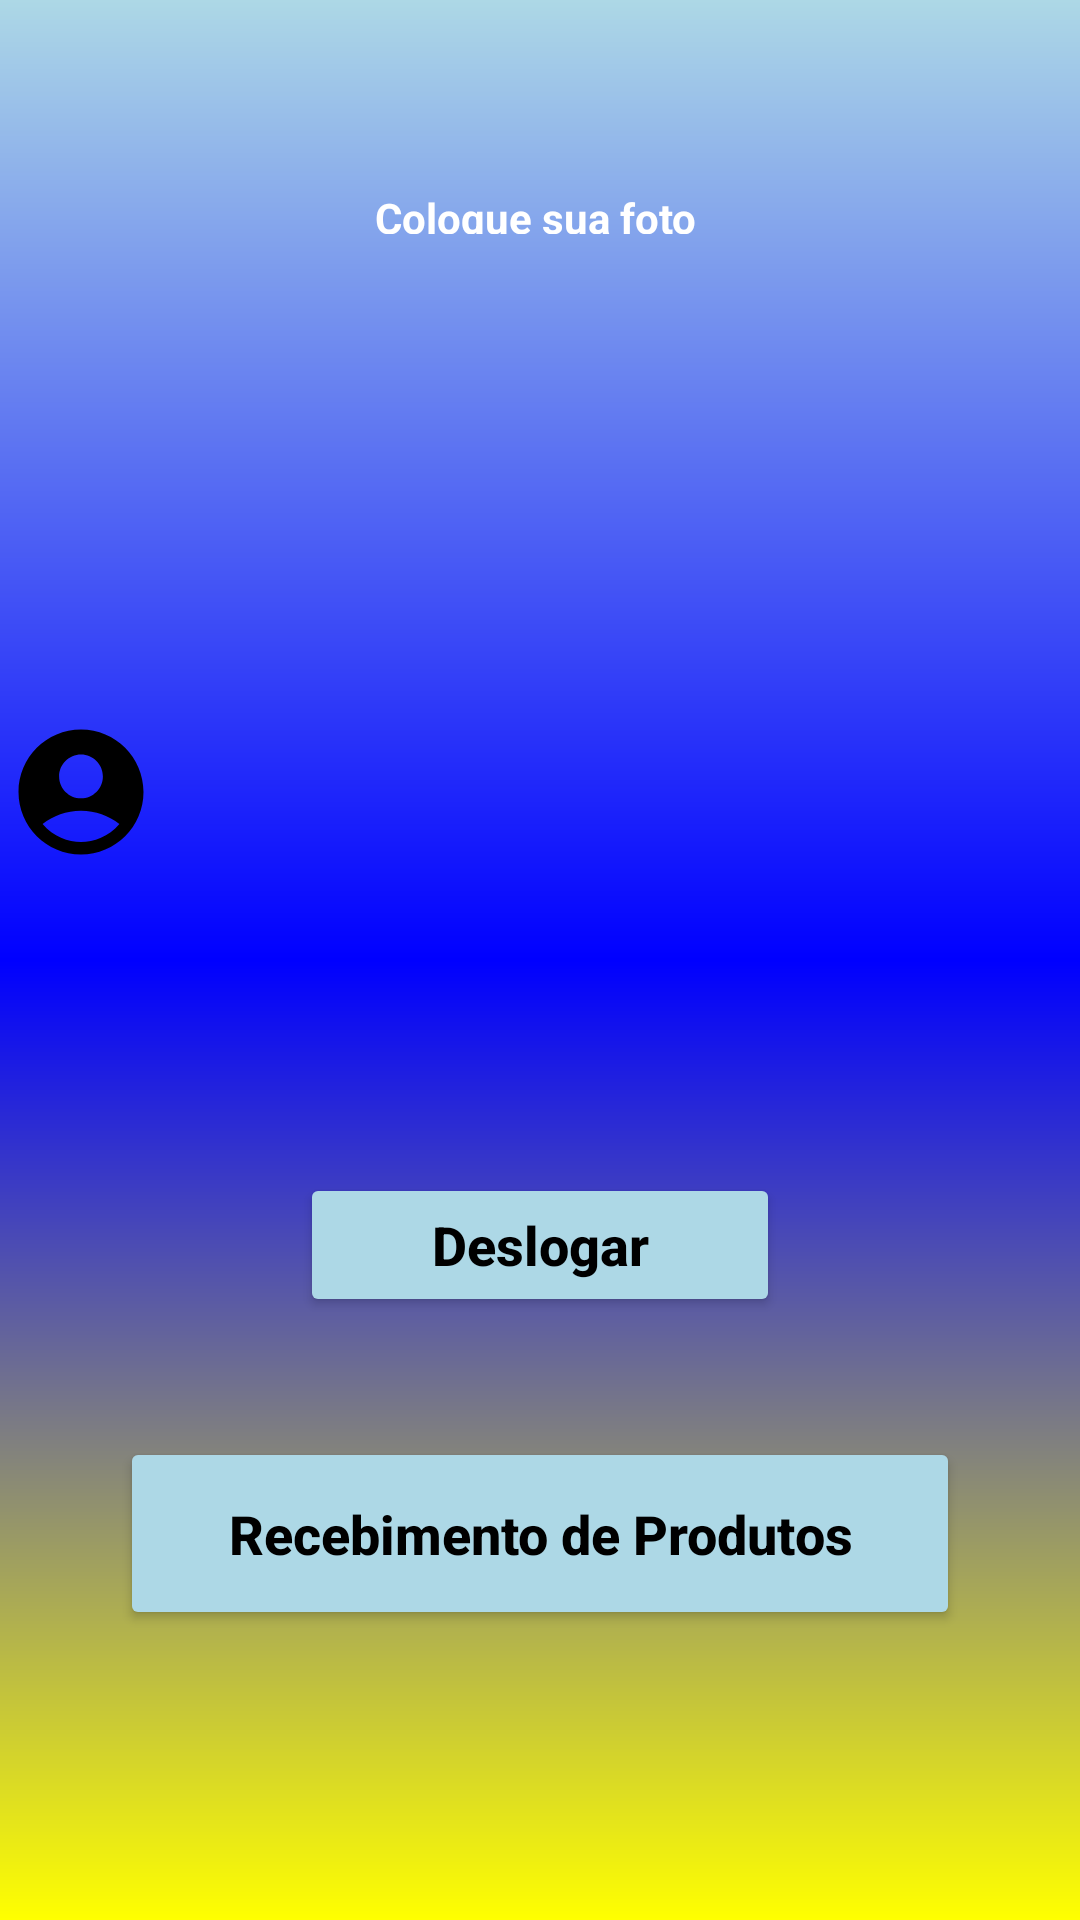

Named icons in this screenshot (1080w x 1920h) and their centers, (x=x, y=y):
user: (x=81, y=792)
